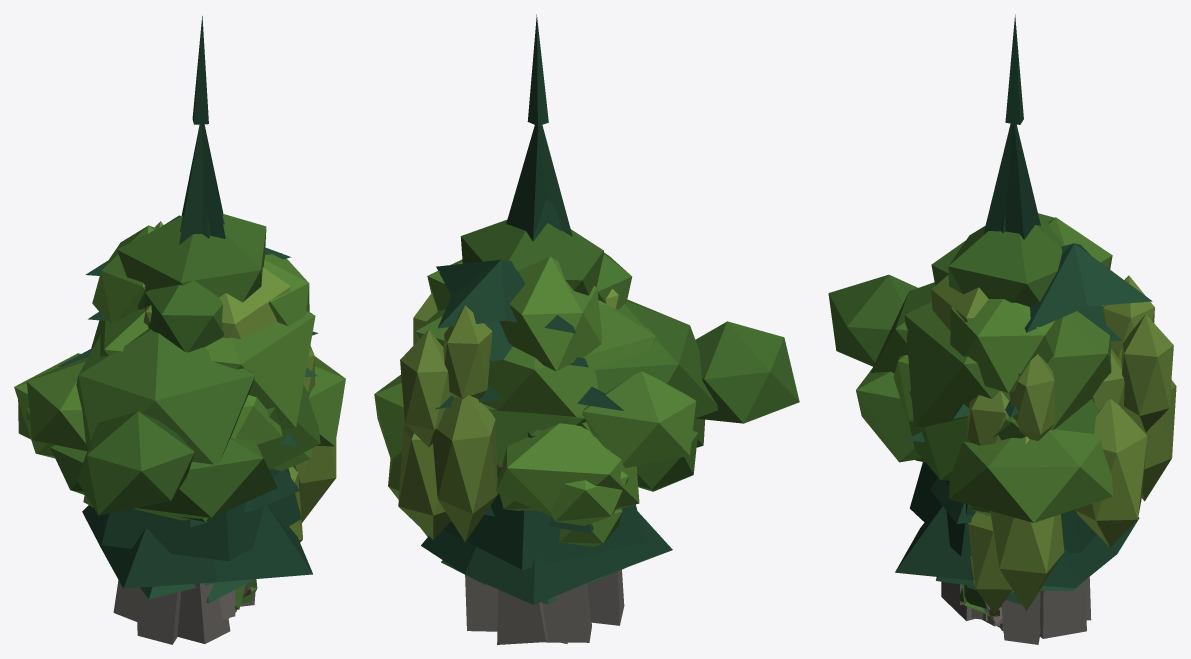
The model's file is nature.glb.
3 views of the same model, side by side, from view 1: azimuth 30°, elevation 25°; view 2: azimuth 150°, elevation 25°; view 3: azimuth 270°, elevation 25° (orthographic).
Visible parts, largest first — view 1: oak_s3_v2__leaf, oak_s3_v1__leaf, oak_s3_v0__leaf, pine_s3_v1__leaf, oak_s3__lo_leaf, pine_s3__lo_leaf, outcrop_v2__main, pine_s3_v0__leaf, birch_s3__lo_leaf, birch_s2_v2__leaf, oak_s2_v2__leaf, outcrop_v1__main (+3 smaller); view 2: oak_s3_v2__leaf, birch_s3_v2__leaf, oak_s3_v1__leaf, oak_s3_v0__leaf, oak_s3__lo_leaf, pine_s3_v1__leaf, pine_s3__lo_leaf, pine_s3_v2__leaf, pine_s3_v0__leaf, oak_s2_v2__leaf, outcrop_v0__main, outcrop_v1__main (+3 smaller); view 3: oak_s3_v0__leaf, oak_s3_v1__leaf, birch_s3_v2__leaf, oak_s3__lo_leaf, birch_s2_v2__leaf, oak_s3_v2__leaf, pine_s3_v1__leaf, pine_s3_v2__leaf, pine_s3_v0__leaf, pine_s3__lo_leaf, birch_s1_v2__leaf, outcrop_v0__main (+3 smaller).
Part boxes in pixels (box(x1,y1,x2,y2)): oak_s3_v2__leaf: box(27, 328, 282, 515); oak_s3_v1__leaf: box(92, 214, 309, 352); oak_s3_v0__leaf: box(14, 353, 345, 520); pine_s3_v1__leaf: box(82, 470, 312, 588); oak_s3__lo_leaf: box(91, 308, 315, 429); pine_s3__lo_leaf: box(101, 202, 301, 561); outcrop_v2__main: box(136, 583, 255, 644); pine_s3_v0__leaf: box(179, 16, 225, 244); birch_s3__lo_leaf: box(143, 267, 290, 339); birch_s2_v2__leaf: box(293, 345, 336, 522); oak_s2_v2__leaf: box(18, 400, 87, 495); outcrop_v1__main: box(113, 580, 241, 621); oak_s3_v2__leaf: box(582, 299, 799, 468); birch_s3_v2__leaf: box(398, 305, 497, 541); oak_s3_v1__leaf: box(427, 220, 632, 371); oak_s3_v0__leaf: box(374, 374, 704, 516); oak_s3__lo_leaf: box(415, 304, 656, 430); pine_s3_v1__leaf: box(421, 506, 672, 604); pine_s3__lo_leaf: box(443, 200, 645, 569); pine_s3_v2__leaf: box(435, 259, 623, 410); pine_s3_v0__leaf: box(506, 14, 572, 240); oak_s2_v2__leaf: box(527, 430, 697, 525); outcrop_v0__main: box(465, 575, 547, 644); outcrop_v1__main: box(542, 583, 591, 643); oak_s3_v0__leaf: box(856, 368, 1113, 522); oak_s3_v1__leaf: box(931, 213, 1112, 393); birch_s3_v2__leaf: box(1075, 275, 1176, 547); oak_s3__lo_leaf: box(904, 300, 1111, 430); birch_s2_v2__leaf: box(967, 354, 1064, 610); oak_s3_v2__leaf: box(828, 274, 935, 421); pine_s3_v1__leaf: box(895, 477, 1139, 588); pine_s3_v2__leaf: box(1005, 243, 1152, 417); pine_s3_v0__leaf: box(983, 14, 1040, 239); pine_s3__lo_leaf: box(909, 209, 1096, 556); birch_s1_v2__leaf: box(968, 511, 1012, 614); outcrop_v0__main: box(982, 577, 1091, 638).
Bounding box in the file's own units: 1.49 × 2.63 × 1.35.
